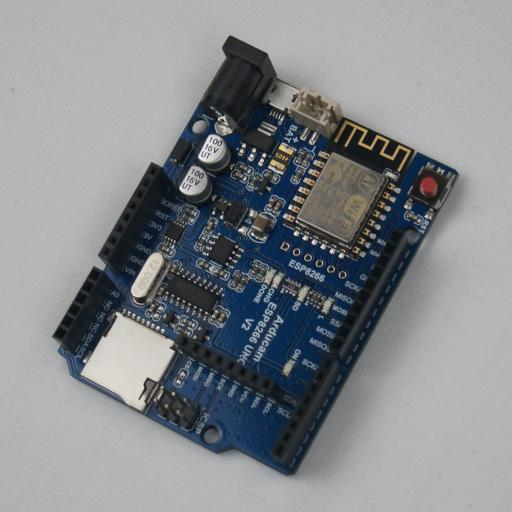Arduino Uno Camera Shield: (52, 36, 459, 476)
